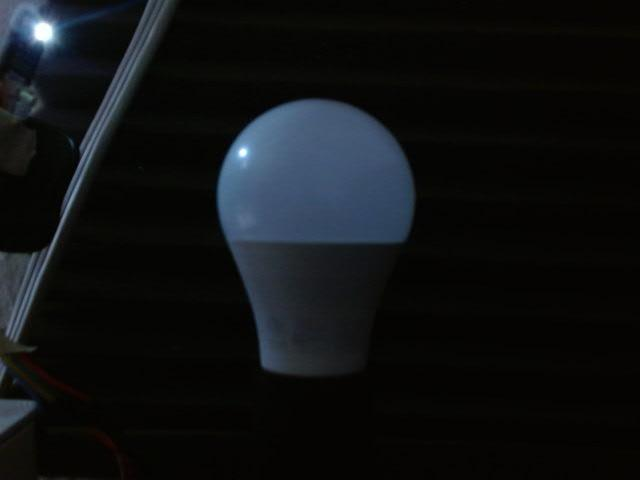Fan: (212, 92, 419, 291)
